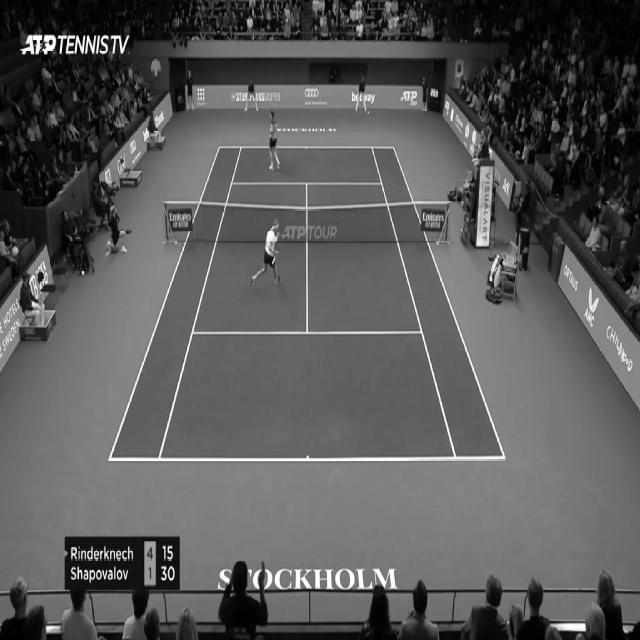tennis-court: (108, 146, 506, 461)
